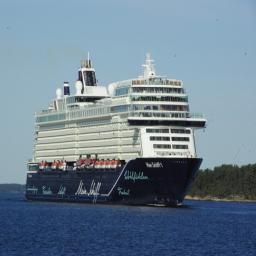cruises: (25, 52, 208, 212)
